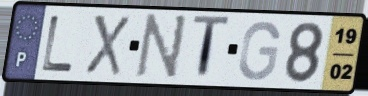8: (284, 20, 326, 84)
G: (236, 19, 282, 83)
L: (39, 13, 77, 74)
N: (132, 12, 190, 83)
T: (191, 14, 233, 84)
X: (83, 13, 131, 78)
